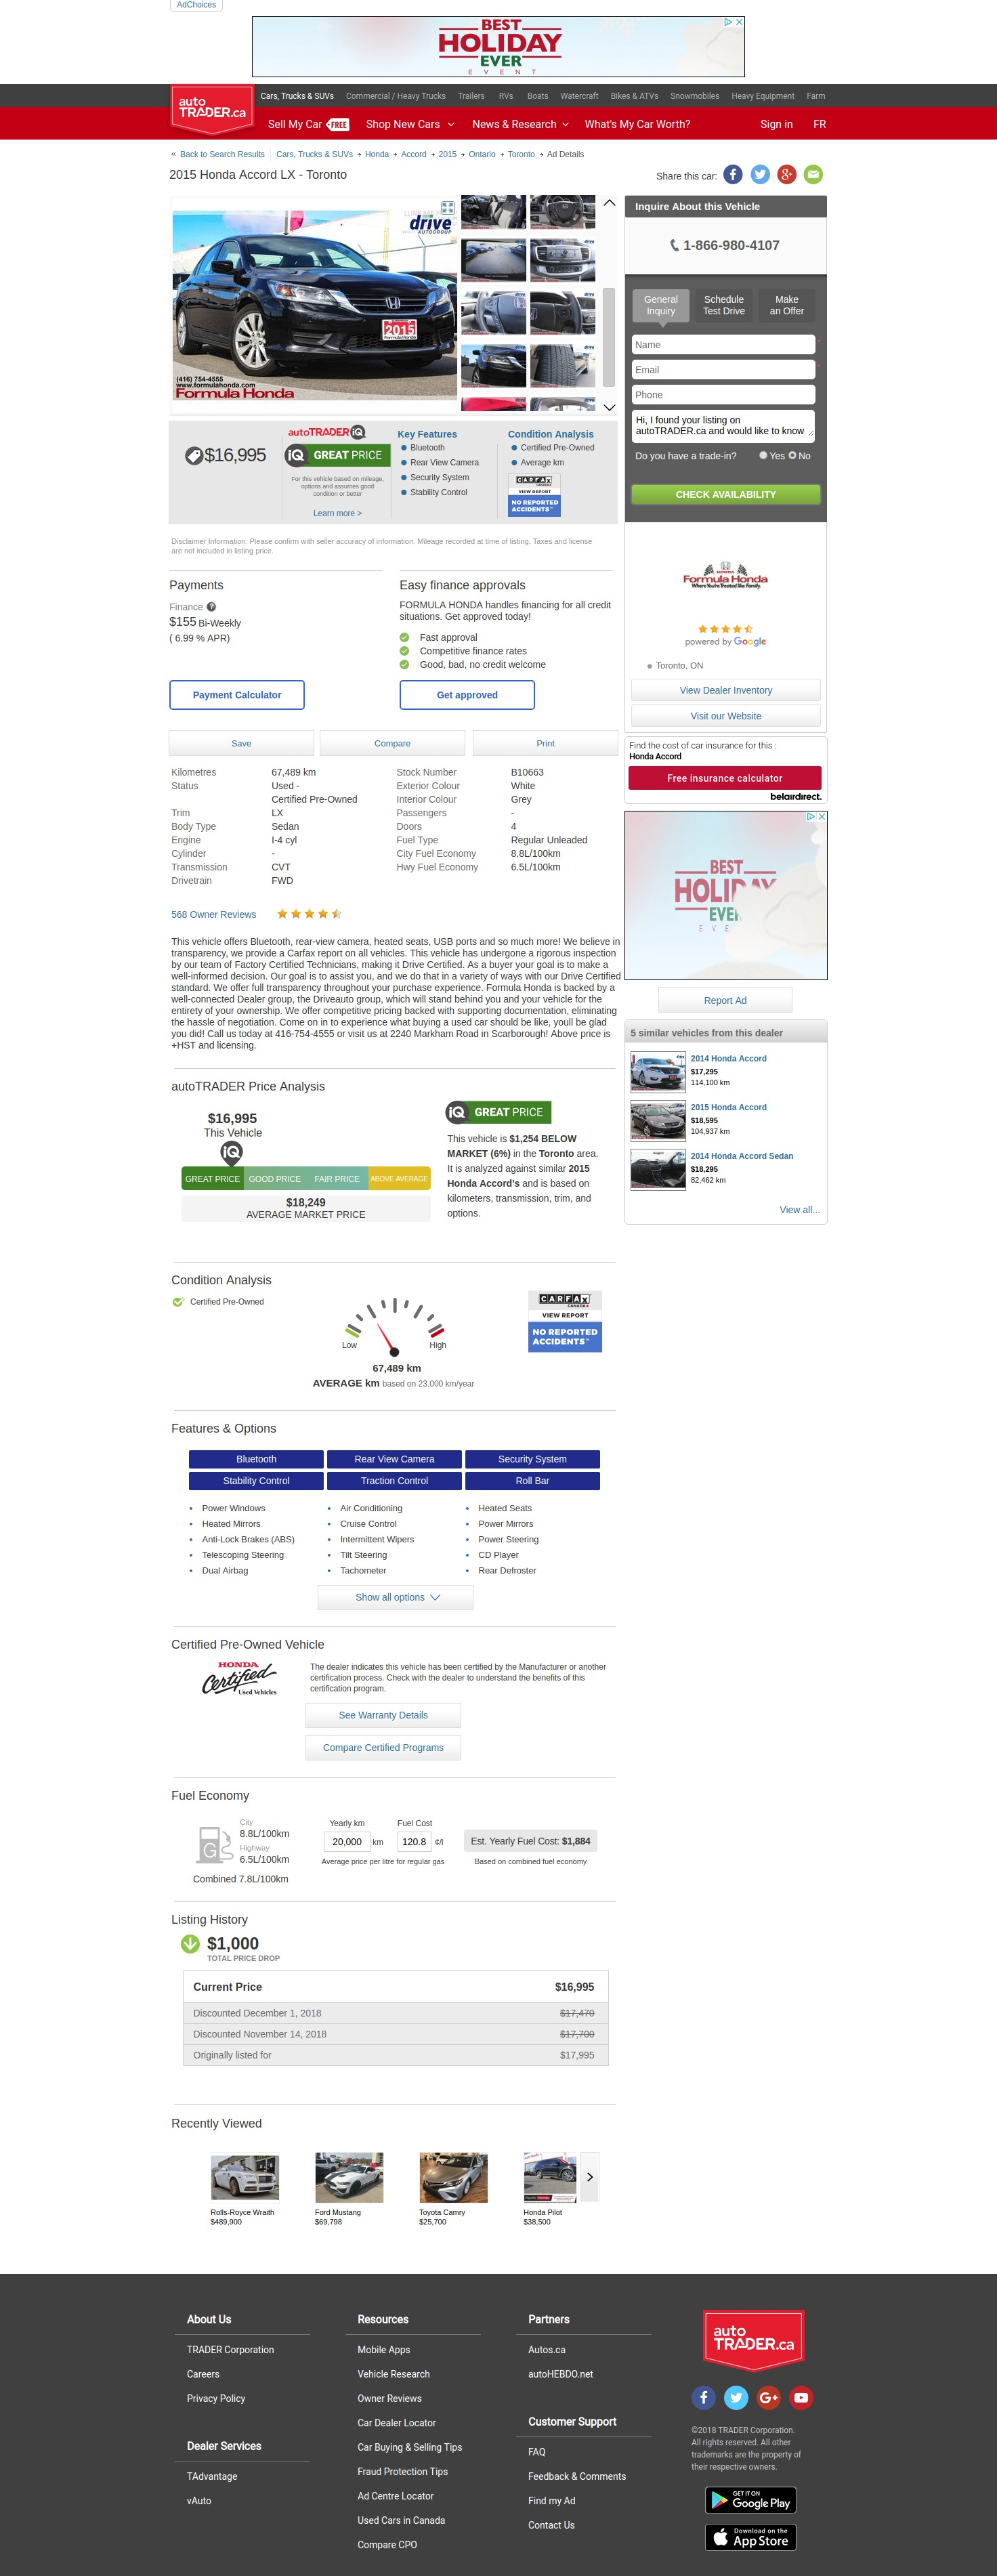car: (603, 404, 616, 412)
